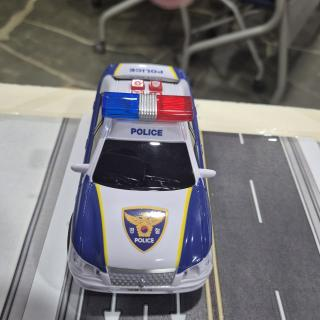Police_car: (68, 63, 215, 294)
